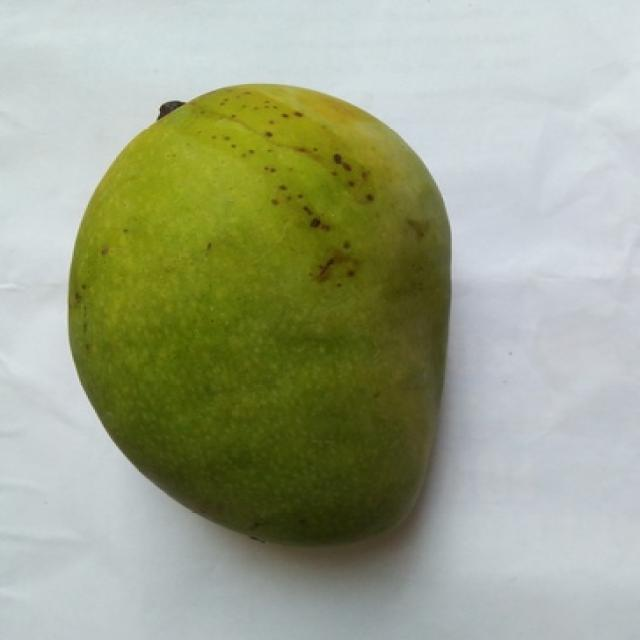Mango: (69, 85, 450, 544)
